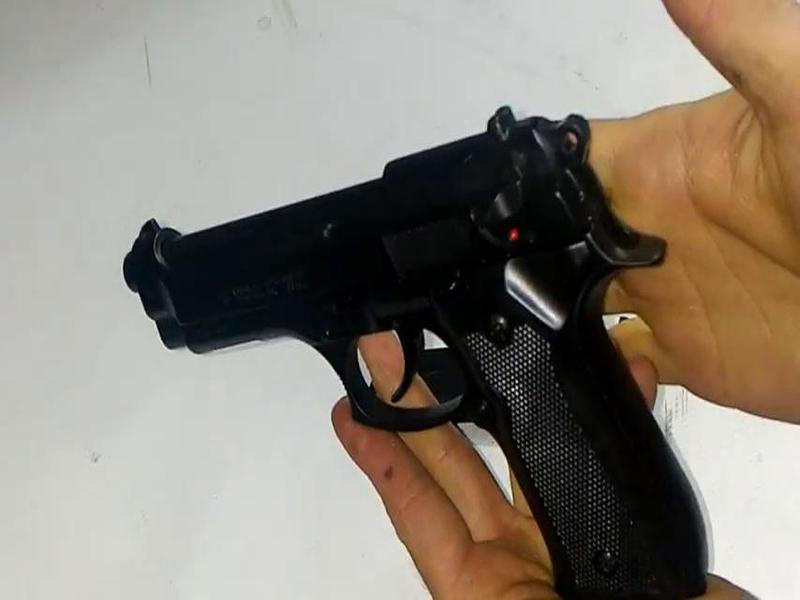Pistola: (109, 100, 724, 600)
